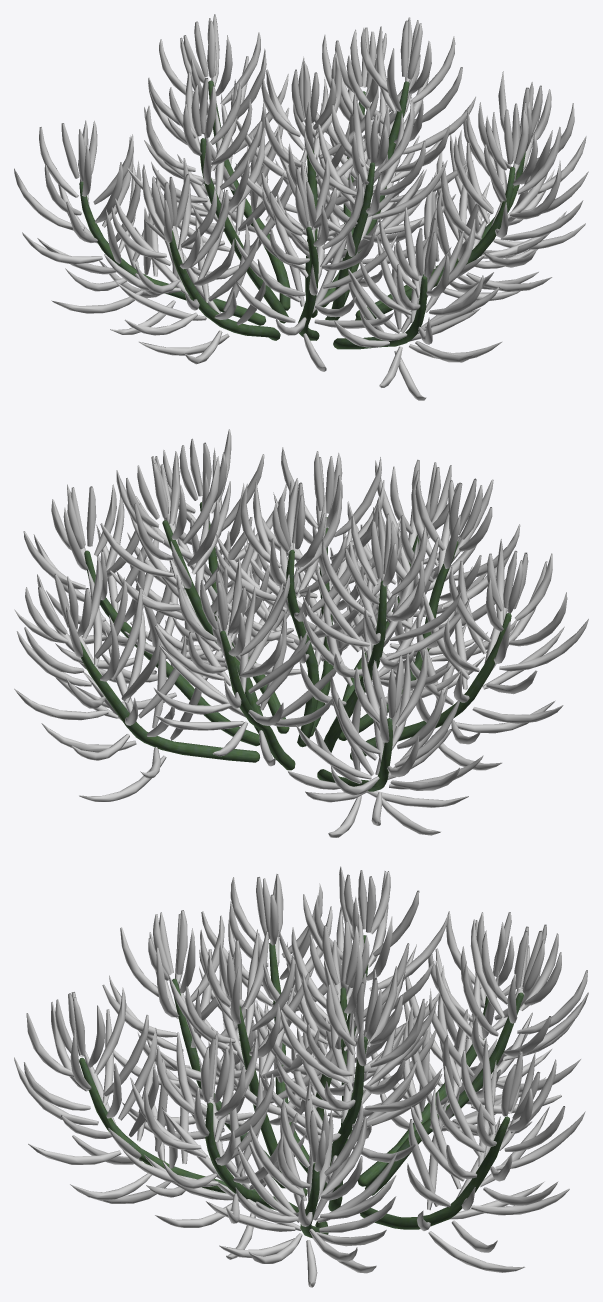
Rendered from senecio-3.gltf.
The picture shows the model from 3 angles, top to bottom: view 1: azimuth 30°, elevation 25°; view 2: azimuth 150°, elevation 25°; view 3: azimuth 270°, elevation 25°; orthographic projection. The views are drawn at different scales.
Parts seen in each view (by area): view 1: senecio-3; view 2: senecio-3; view 3: senecio-3.
Part boxes in pixels (x1,y1,x2,y2): senecio-3: (14,14,588,400); senecio-3: (14,429,588,837); senecio-3: (14,866,588,1287).
Bounding box in the file's own units: 0.9807 × 0.527 × 0.9142.
